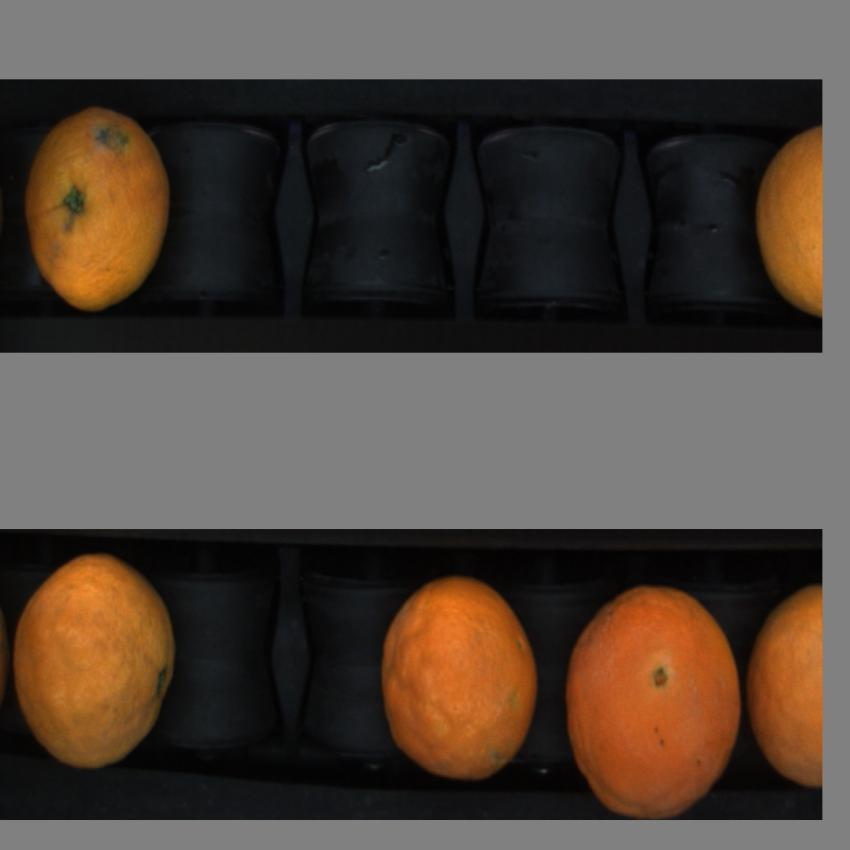Buen estado: (564, 582, 742, 816), (13, 550, 187, 770), (378, 572, 538, 782), (25, 103, 176, 310), (744, 587, 822, 790), (753, 125, 822, 320)
